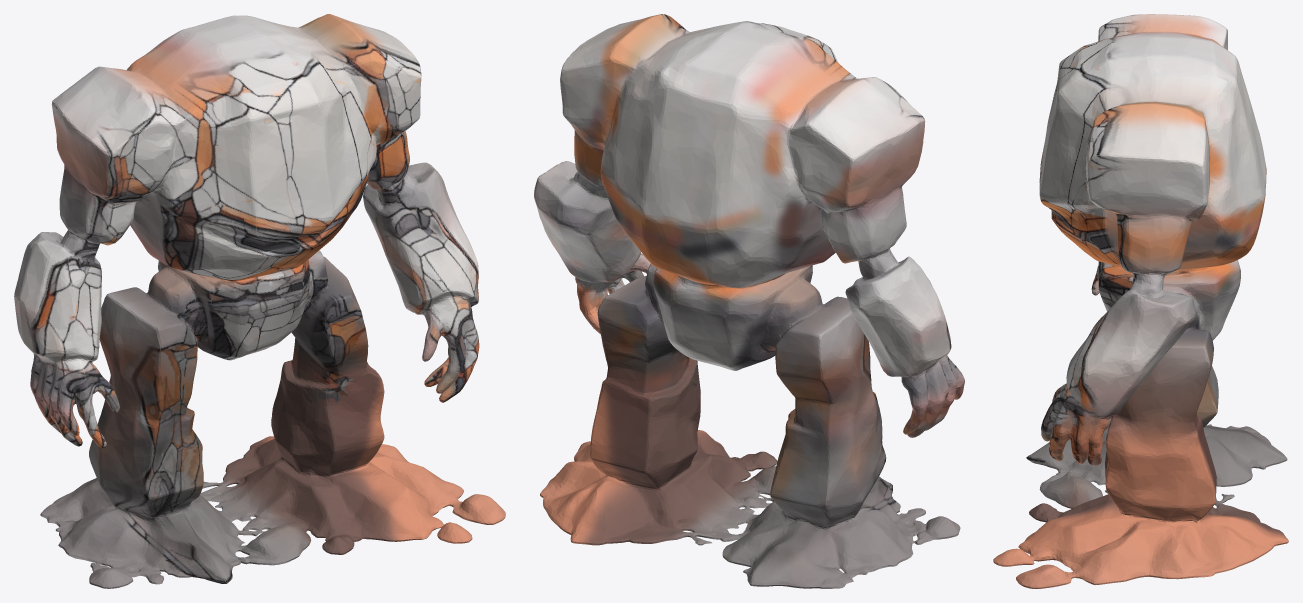
File: stoneblood_townsperson_local.glb
The picture shows the model from 3 angles, left to right: view 1: azimuth 30°, elevation 25°; view 2: azimuth 150°, elevation 25°; view 3: azimuth 270°, elevation 25°; orthographic projection. The views are drawn at different scales.
Parts seen in each view (by area): view 1: geometry_0; view 2: geometry_0; view 3: geometry_0.
Boxes of the visible parts, box(x1,y1,x2,y2) form: geometry_0: box(14, 14, 505, 588); geometry_0: box(534, 14, 964, 588); geometry_0: box(993, 14, 1288, 588).
Bounding box in the file's own units: 1.83 × 2 × 1.19.
Materials: 1 (1 with a texture image).
